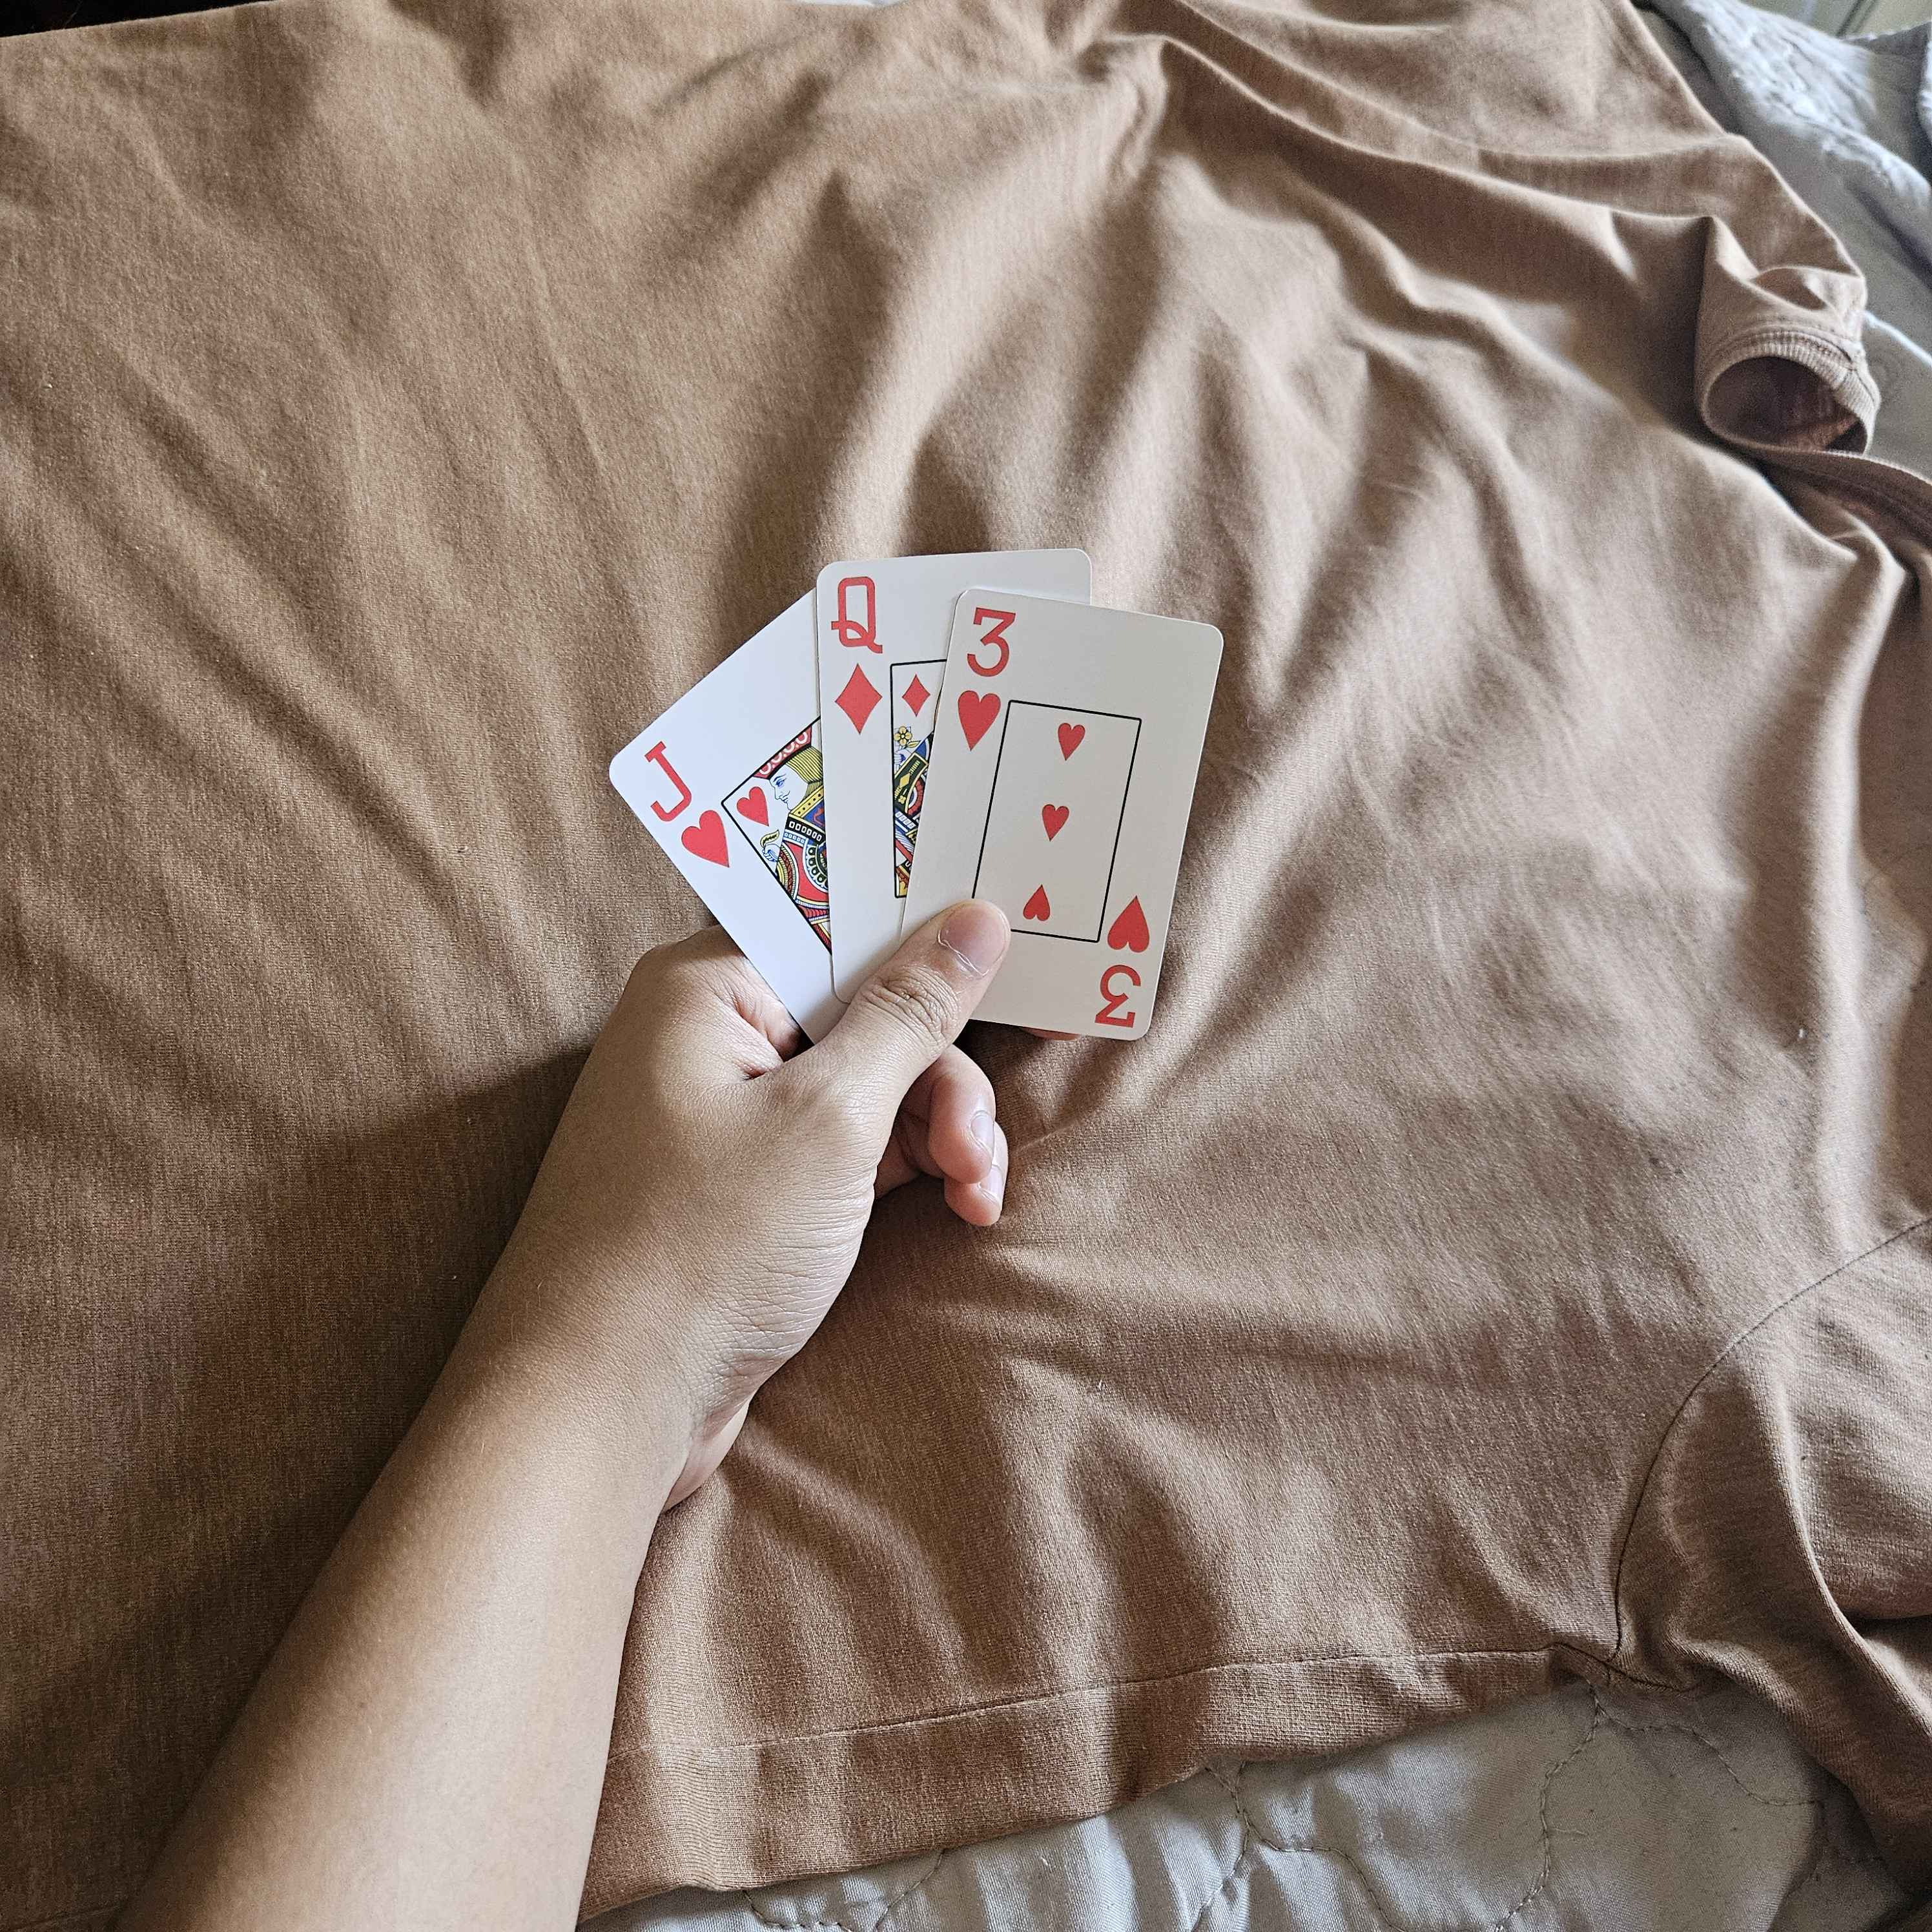3C: (1090, 881, 1164, 1047), (947, 591, 1023, 752)
JC: (632, 727, 736, 885)
QO: (819, 563, 897, 745)
